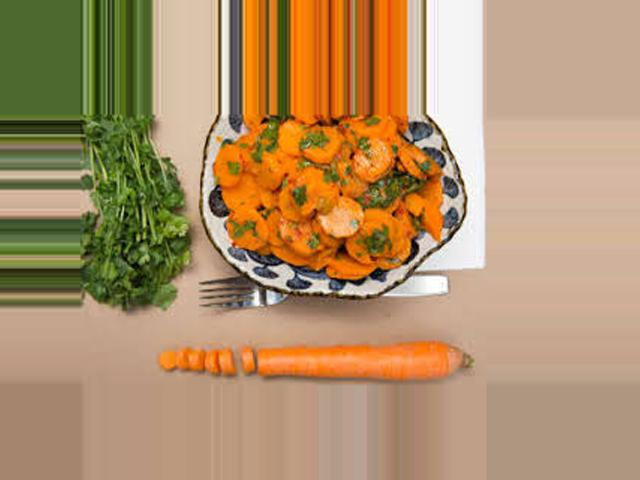carrot: (257, 345, 467, 386)
